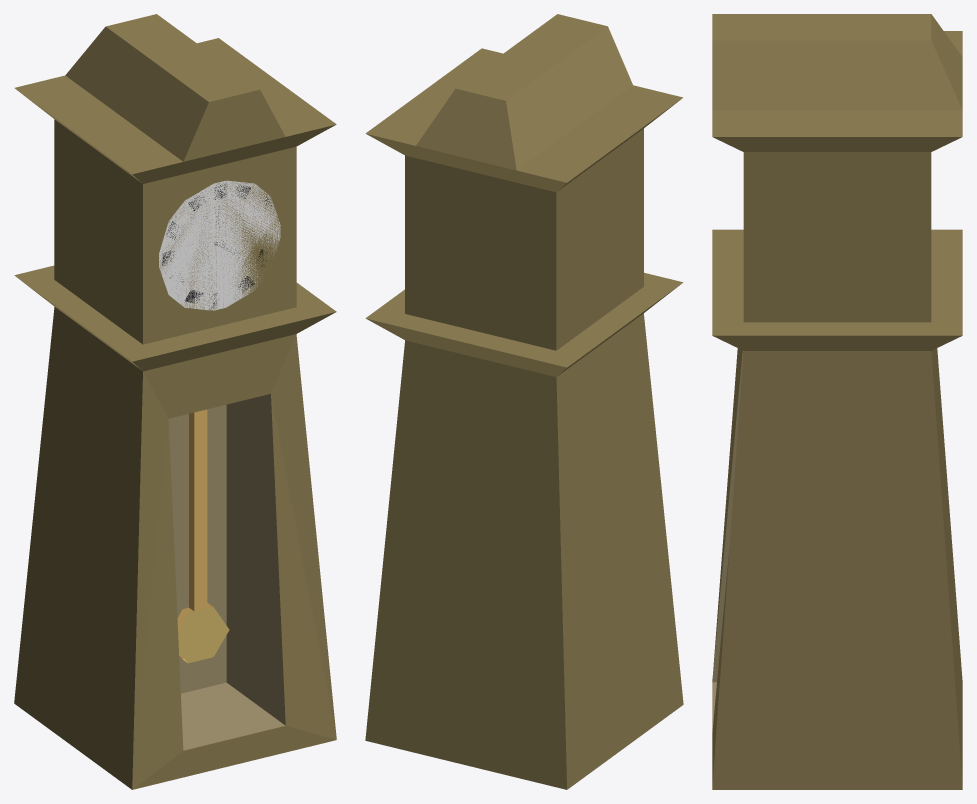
3 renders of one model, left to right at view 1: azimuth 30°, elevation 25°; view 2: azimuth 150°, elevation 25°; view 3: azimuth 270°, elevation 25°, orthographic. The views are drawn at different scales.
Bounding box in the file's own units: 64 × 200 × 64.
Materials: 1 (1 with a texture image).
